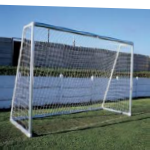goals: (9, 20, 136, 138)
